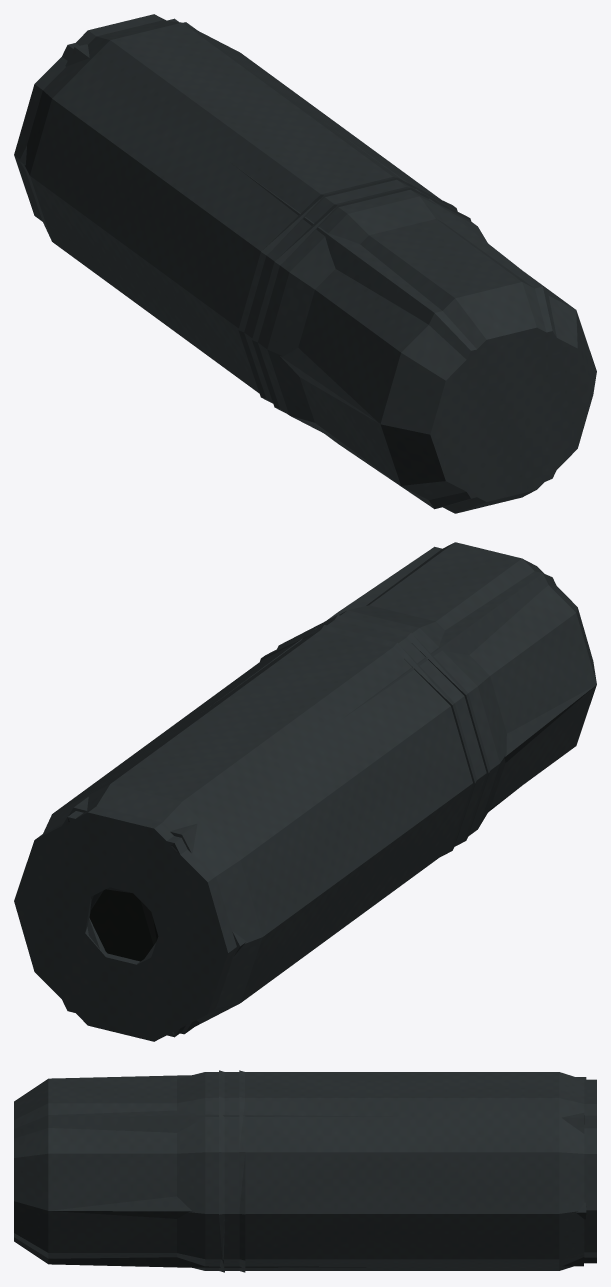
File: smg_suppressor.glb
The picture shows the model from 3 angles, top to bottom: view 1: azimuth 30°, elevation 25°; view 2: azimuth 150°, elevation 25°; view 3: azimuth 270°, elevation 25°; orthographic projection. The views are drawn at different scales.
Parts seen in each view (by area): view 1: muzzle__smg_suppressor_LOD0_RAID_Secondary_Original_steel, muzzle__smg_suppressor_LOD1_RAID_Secondary_Original_steel; view 2: muzzle__smg_suppressor_LOD0_RAID_Secondary_Original_steel, muzzle__smg_suppressor_LOD1_RAID_Secondary_Original_steel, muzzle__smg_suppressor_LOD0_RAID_Secondary_Original_rubber; view 3: muzzle__smg_suppressor_LOD0_RAID_Secondary_Original_steel, muzzle__smg_suppressor_LOD1_RAID_Secondary_Original_steel.
Part boxes in pixels (x1=…): muzzle__smg_suppressor_LOD0_RAID_Secondary_Original_steel: x1=14, y1=14, x2=596, y2=513; muzzle__smg_suppressor_LOD1_RAID_Secondary_Original_steel: x1=19, y1=18, x2=592, y2=509; muzzle__smg_suppressor_LOD0_RAID_Secondary_Original_steel: x1=14, y1=542, x2=596, y2=1041; muzzle__smg_suppressor_LOD1_RAID_Secondary_Original_steel: x1=15, y1=546, x2=595, y2=1037; muzzle__smg_suppressor_LOD0_RAID_Secondary_Original_rubber: x1=89, y1=889, x2=156, y2=961; muzzle__smg_suppressor_LOD0_RAID_Secondary_Original_steel: x1=14, y1=1070, x2=596, y2=1272; muzzle__smg_suppressor_LOD1_RAID_Secondary_Original_steel: x1=14, y1=1075, x2=596, y2=1267.
Bounding box in the file's own units: 0.0651 × 0.0619 × 0.186.
2 materials, 2 textured.
